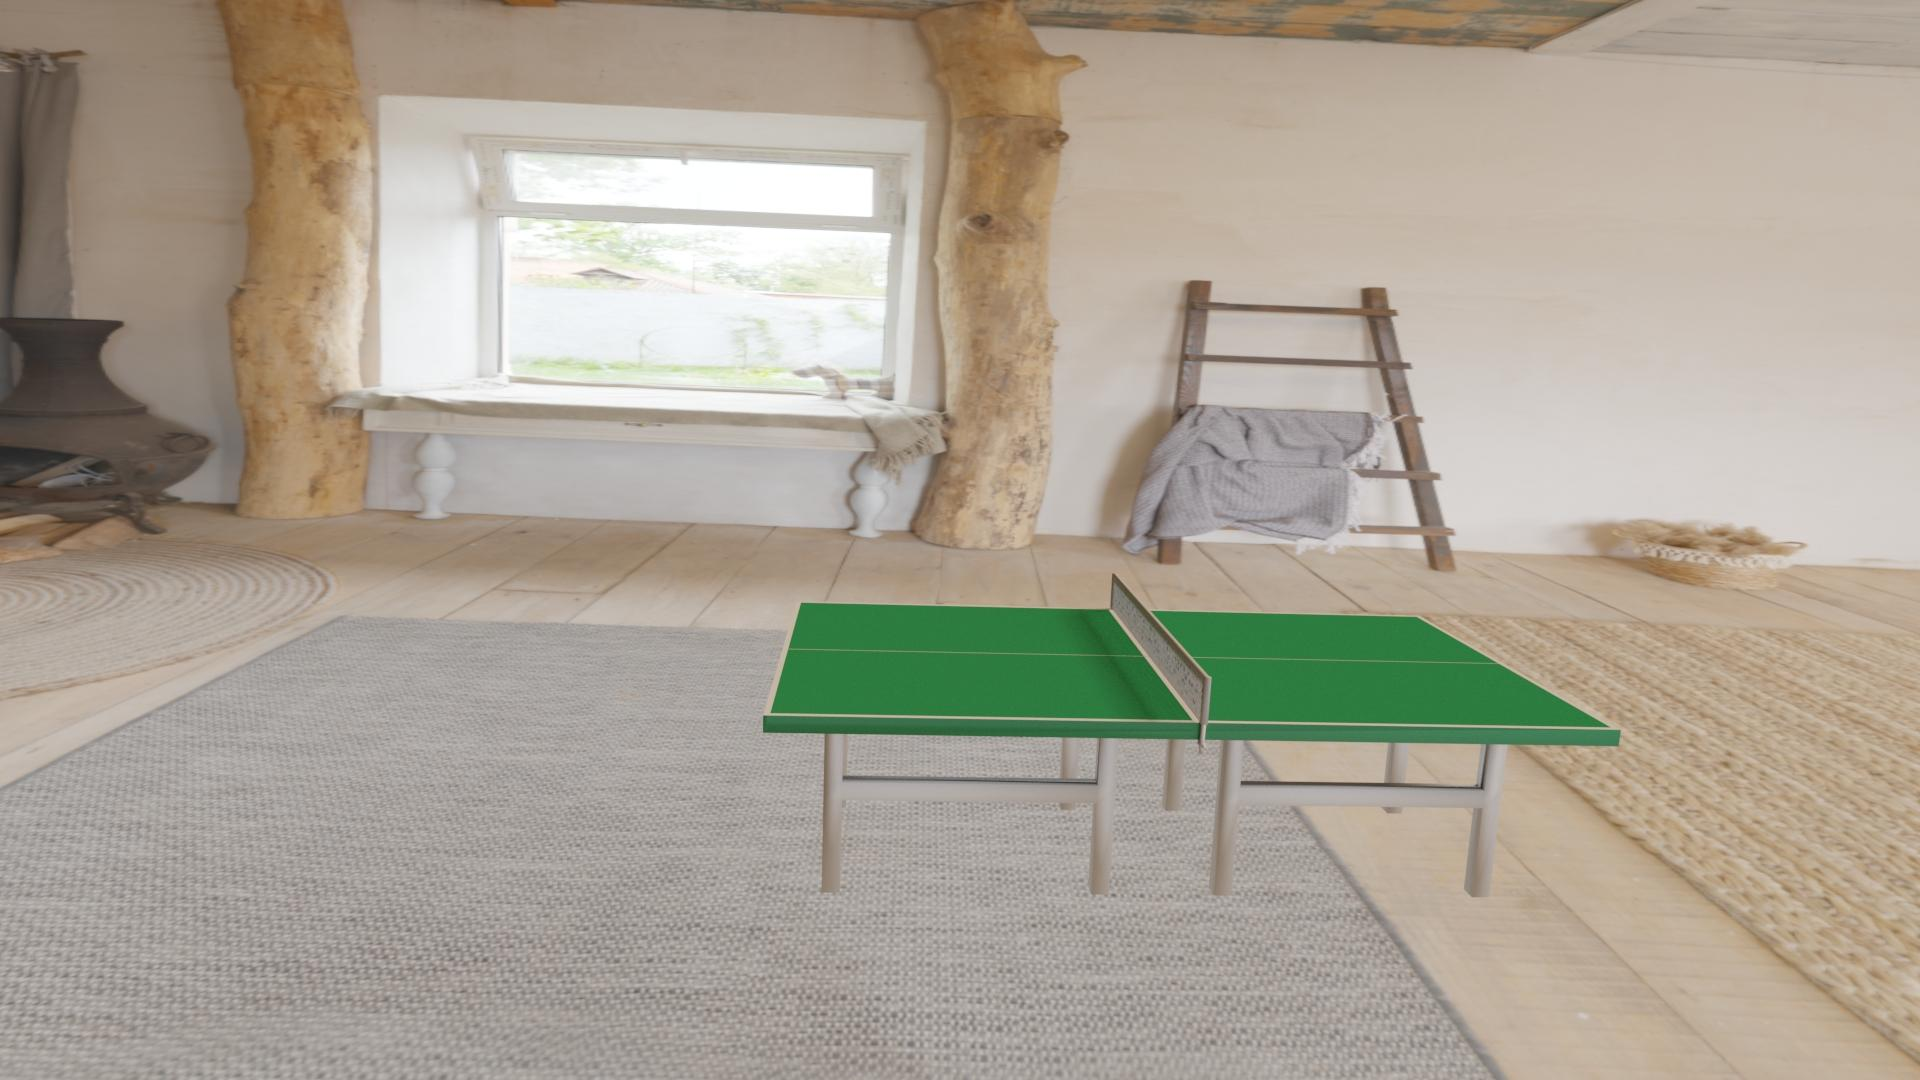table: (770, 603, 1611, 728)
